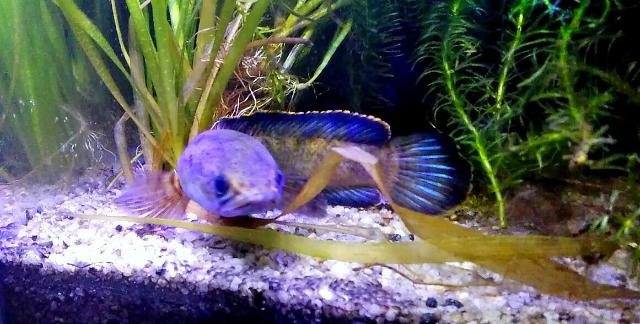Mulut: (218, 188, 282, 220)
Sirip Dada: (103, 158, 191, 231)
Sirip Ekor: (385, 125, 477, 224)
Sirip Perut: (310, 185, 398, 211)
Sirip Punggung: (208, 103, 398, 137)
